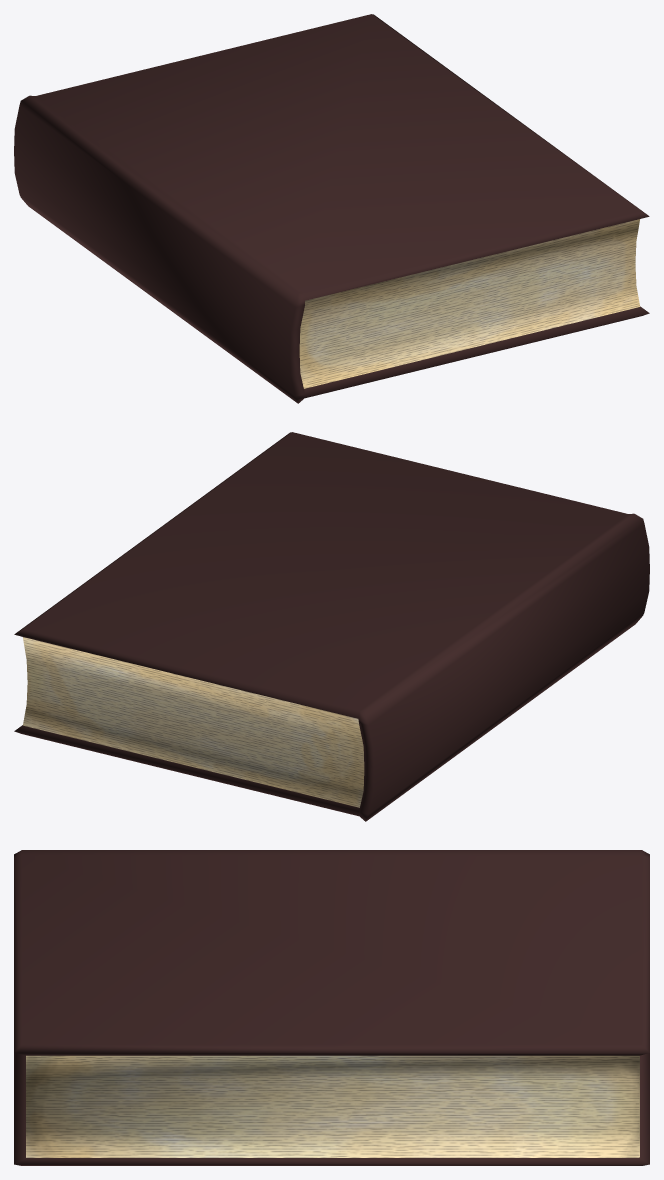
The model's file is book_closed.fbx.
3 renders of one model, top to bottom at view 1: azimuth 30°, elevation 25°; view 2: azimuth 150°, elevation 25°; view 3: azimuth 270°, elevation 25°, orthographic. The views are drawn at different scales.
Parts seen in each view (by area): view 1: book_closed; view 2: book_closed; view 3: book_closed.
Part boxes in pixels (<box>): book_closed: <box>14,14,649,403</box>; book_closed: <box>14,432,649,821</box>; book_closed: <box>14,850,649,1165</box>.
Size of the model in its own units: 151 by 44.23 by 200.
Materials: 2 (1 with a texture image).
